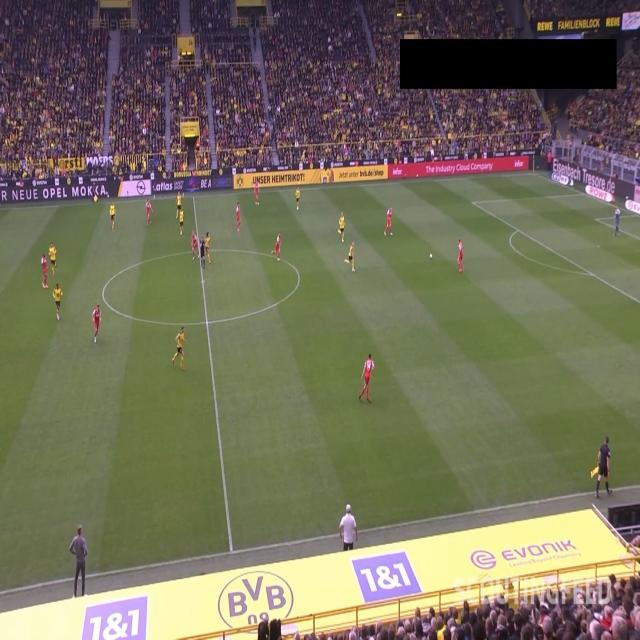ball: (428, 248, 435, 262)
f_player: (591, 438, 612, 501), (359, 353, 377, 402), (42, 242, 57, 288), (170, 328, 186, 369), (51, 284, 63, 320), (201, 231, 213, 266), (91, 304, 101, 342), (271, 232, 283, 260), (345, 240, 356, 268), (455, 239, 464, 273), (191, 232, 201, 262), (383, 208, 392, 238), (234, 206, 243, 234), (613, 209, 621, 238), (338, 214, 346, 242), (110, 206, 118, 232), (253, 180, 261, 206), (144, 199, 152, 224), (176, 191, 183, 218), (296, 189, 301, 211)
umpire: (200, 233, 208, 267), (91, 183, 101, 203)
